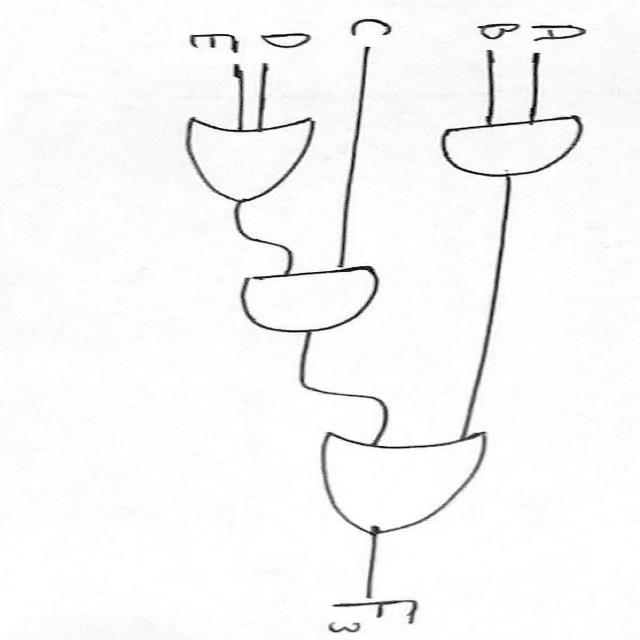AND: (410, 103, 619, 196), (195, 260, 410, 341)
OR: (258, 423, 534, 554), (160, 105, 324, 203)
